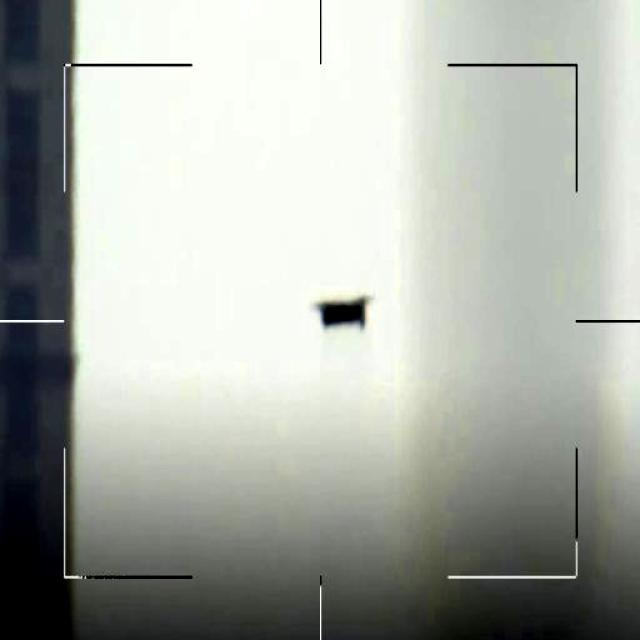bird: (316, 295, 372, 325)
